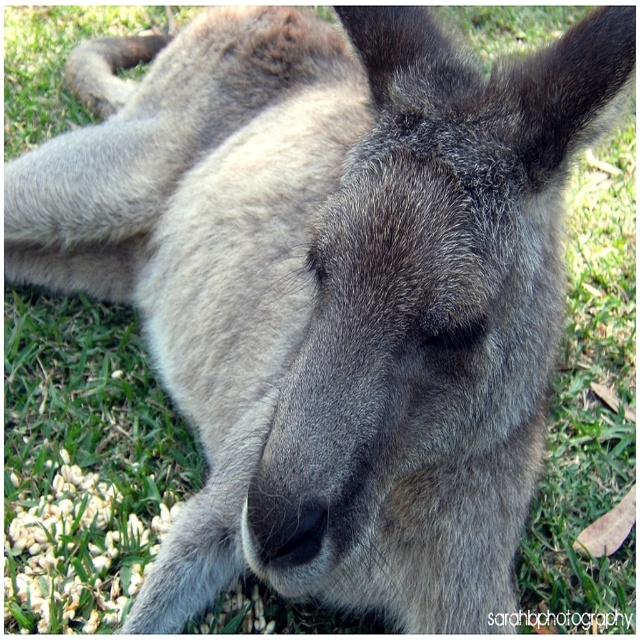Kangaroo: (4, 5, 636, 634)
